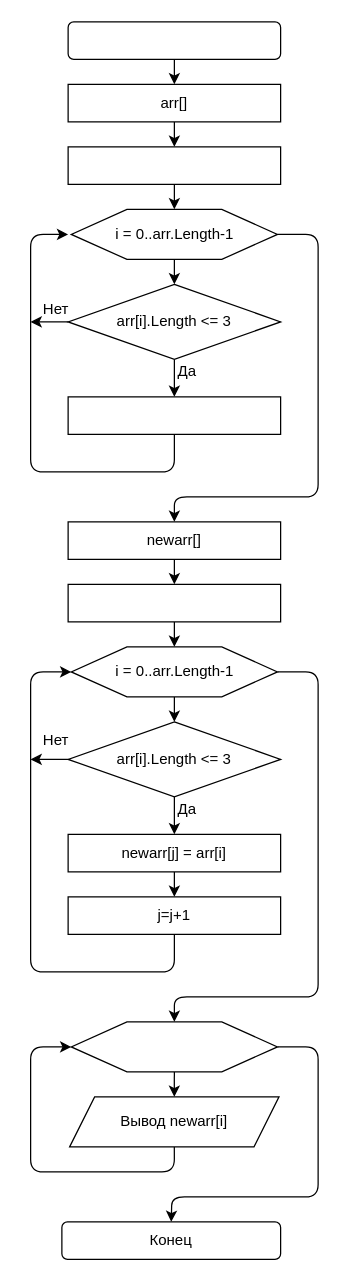
This 350x1281 diagram has some shape labels left out. The centre of each missing label's shape, as x and y in pixels:
i = 0..n-1: the point at 174,1046
j=0: the point at 174,602
n=0: the point at 174,165
n=n+1: the point at 174,415
Начало: the point at 174,40
